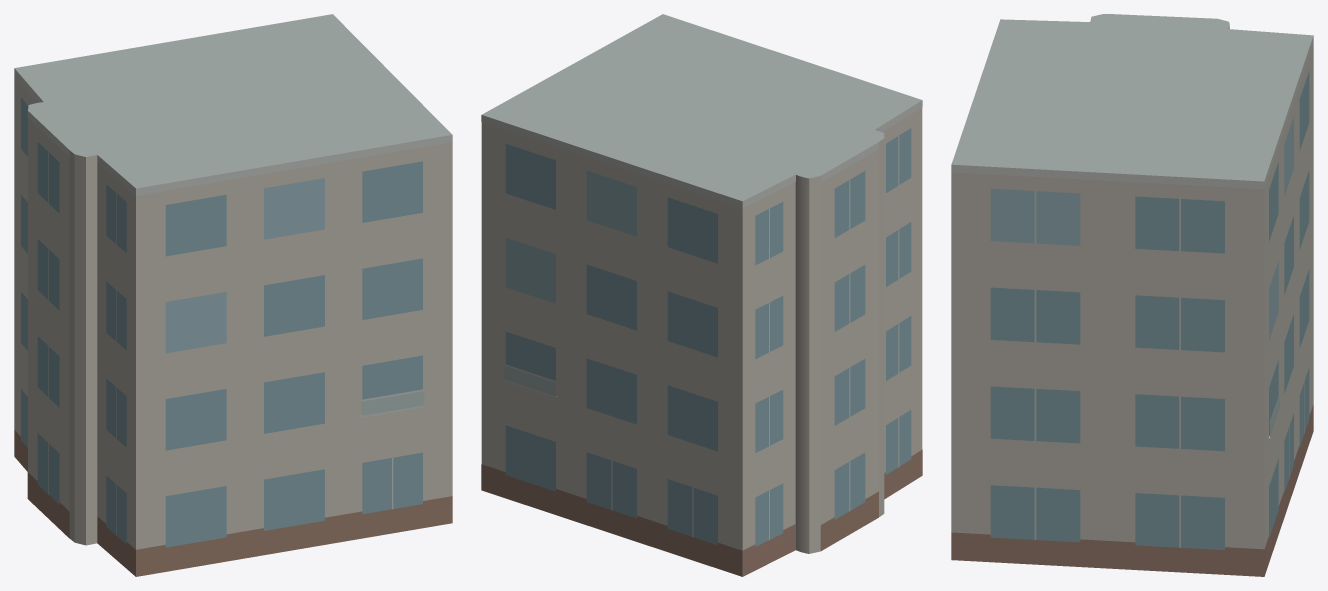
File: survey-upis-32663963.glb
The picture shows the model from 3 angles, left to right: view 1: azimuth 30°, elevation 25°; view 2: azimuth 150°, elevation 25°; view 3: azimuth 270°, elevation 25°; orthographic projection. The views are drawn at different scales.
Visible parts, largest first — view 1: survey-upis-32663963.tmp; view 2: survey-upis-32663963.tmp; view 3: survey-upis-32663963.tmp.
Part boxes in pixels (<box>): survey-upis-32663963.tmp: <box>14,14,452,576</box>; survey-upis-32663963.tmp: <box>481,14,922,576</box>; survey-upis-32663963.tmp: <box>951,14,1313,576</box>.
Size of the model in its own units: 11.55 by 12.7 by 10.56.
